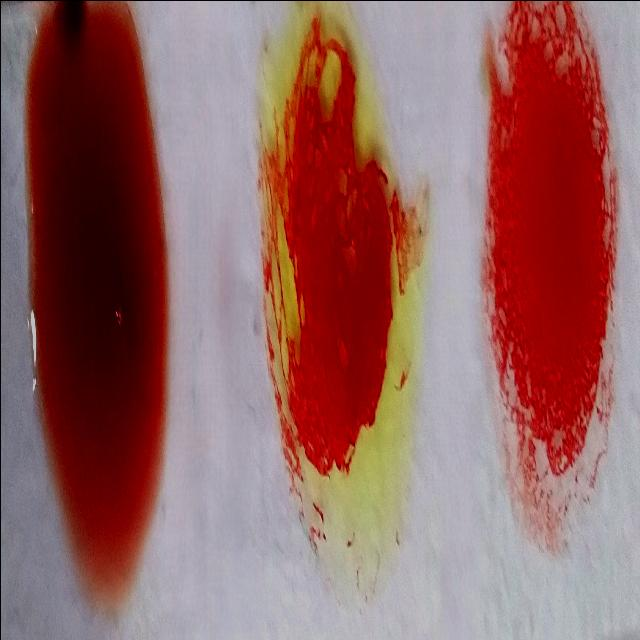B: (258, 1, 408, 578)
D: (492, 0, 612, 514)
